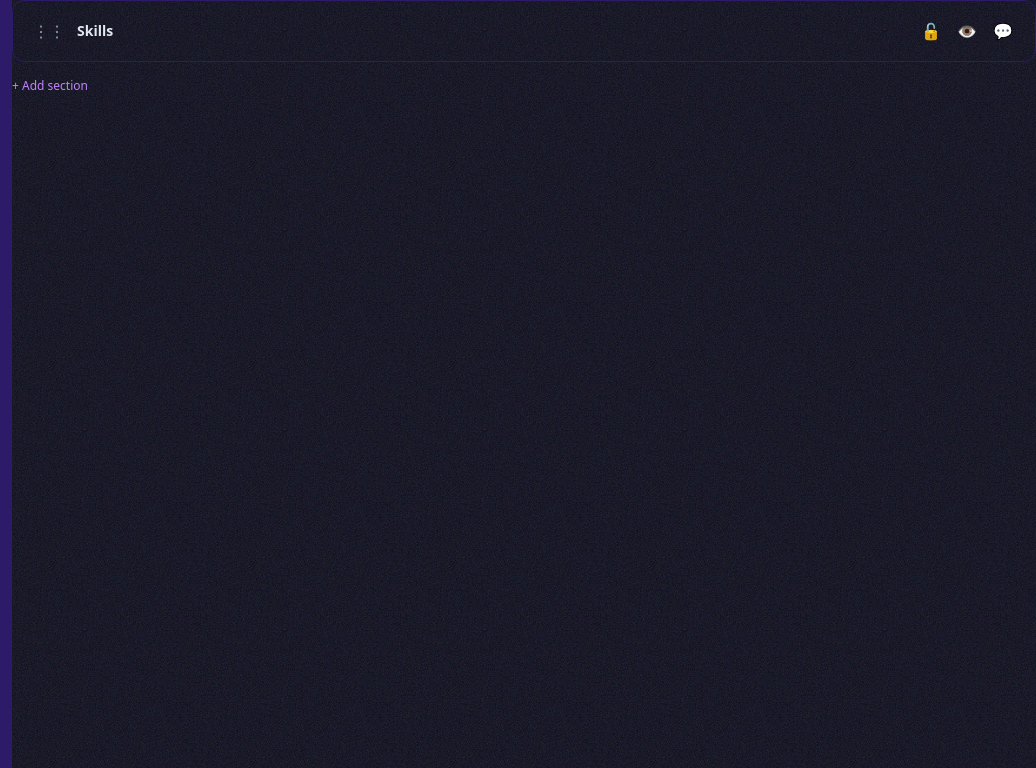
Test: ProfileTreeEditor › surfaces a 422 message and keeps edits
Click the text "Skills" at (95,31), box left=77, top=21, right=113, bottom=41
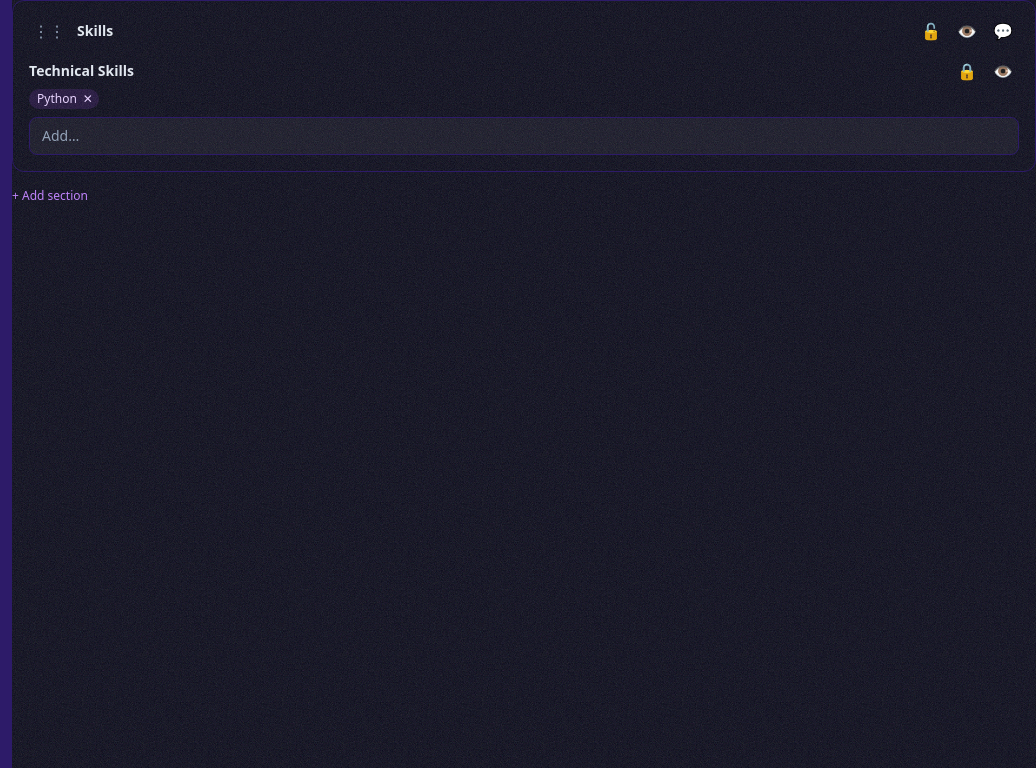
Click the button named "Remove Python" at (88,99), box left=81, top=91, right=95, bottom=107
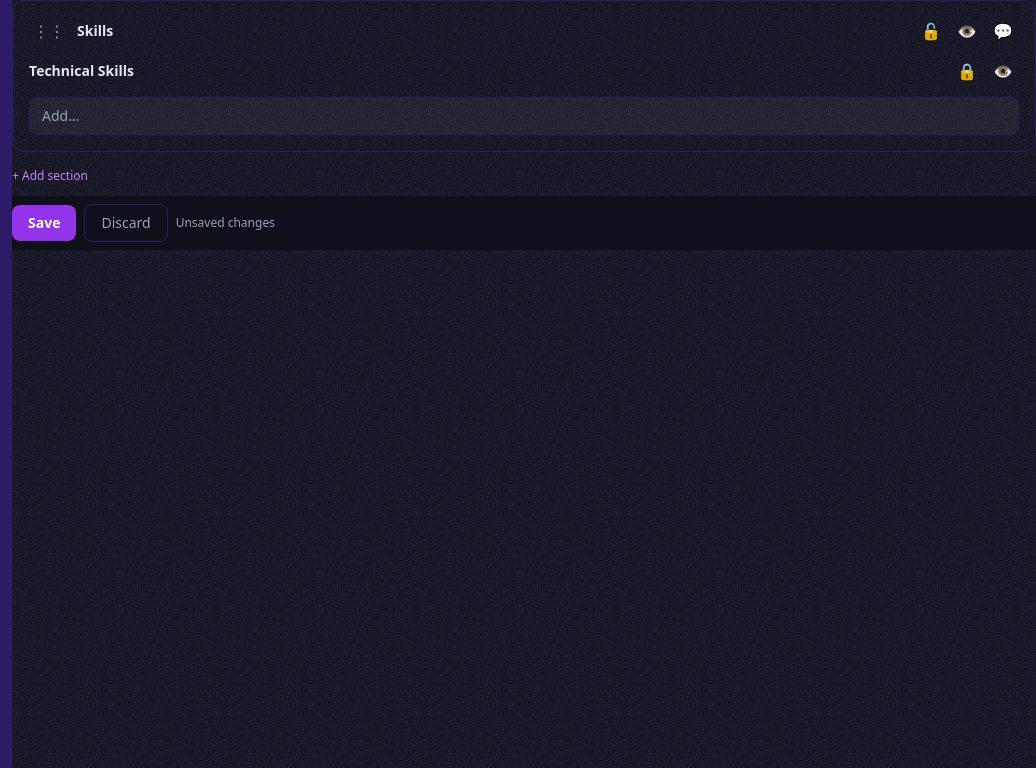
Click the button "Save" at (44,223), box left=12, top=205, right=76, bottom=241
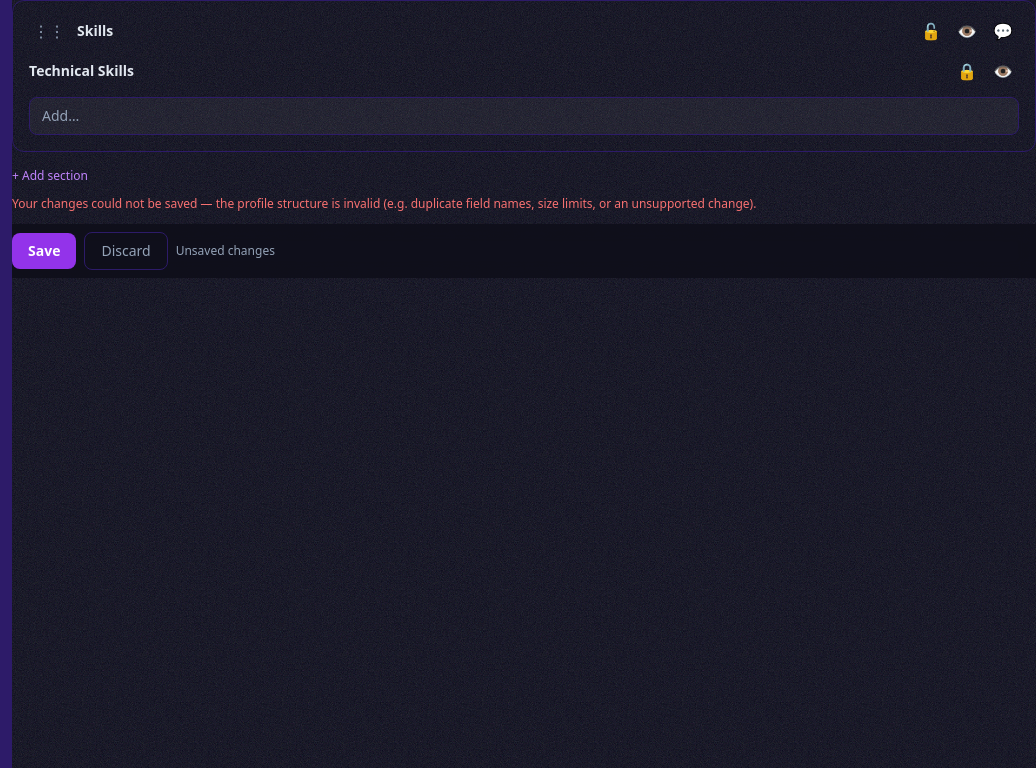
Expected: the button "Save" is enabled, left=12, top=233, right=76, bottom=269
Expected: the text "could not be saved" is shown, left=12, top=195, right=756, bottom=212
